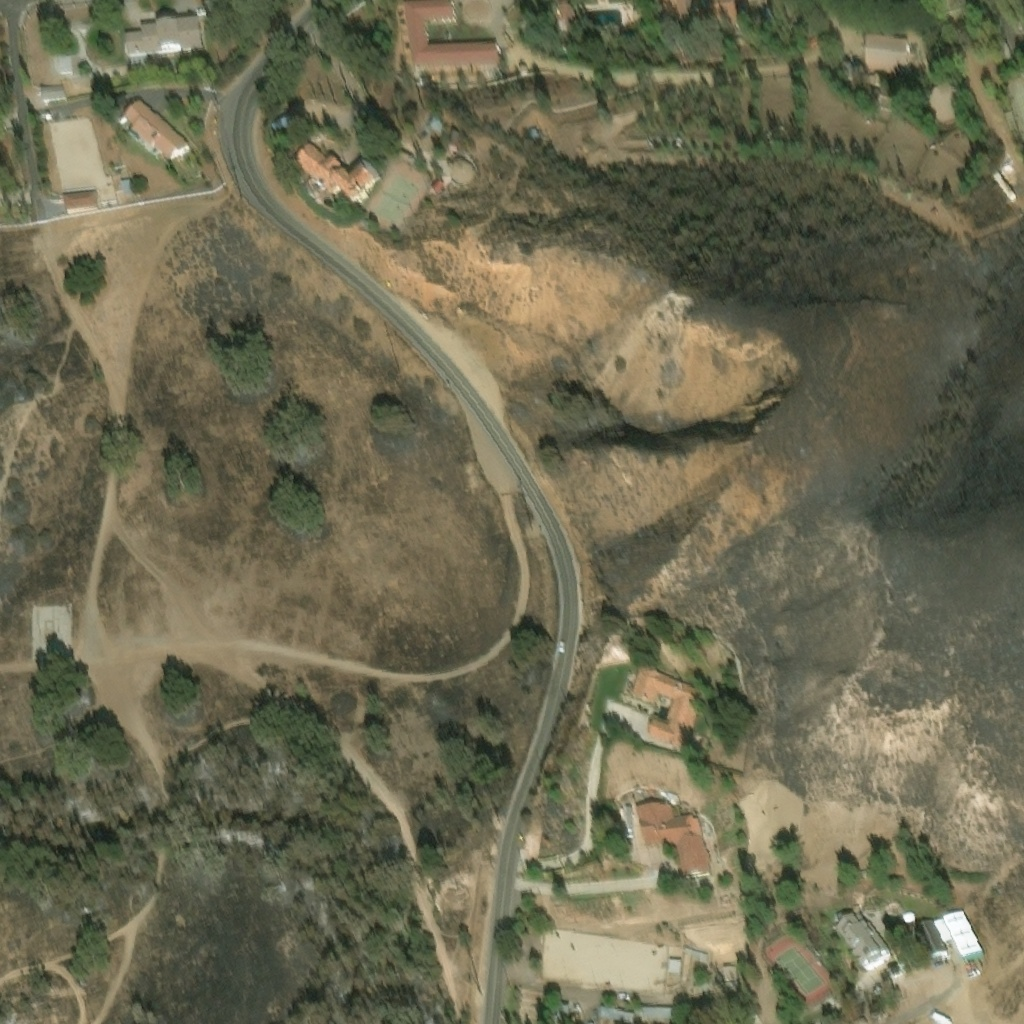0 no-damage: (631, 790, 712, 873), (632, 662, 701, 747), (403, 0, 496, 62), (297, 145, 379, 203), (122, 9, 204, 64), (118, 98, 188, 155), (831, 905, 891, 967), (940, 901, 981, 953), (649, 0, 744, 21), (861, 26, 907, 65), (910, 911, 946, 953), (986, 151, 1013, 190), (60, 183, 98, 209), (443, 146, 470, 171), (599, 1002, 631, 1019), (38, 79, 64, 98), (931, 910, 950, 936), (271, 117, 295, 137), (639, 1000, 671, 1013), (554, 0, 572, 23), (553, 1003, 569, 1020), (425, 110, 441, 125), (718, 956, 734, 971), (118, 173, 132, 190), (666, 949, 679, 965), (717, 972, 734, 984), (899, 903, 913, 916), (948, 1014, 965, 1023), (428, 169, 439, 182), (525, 117, 536, 128)
